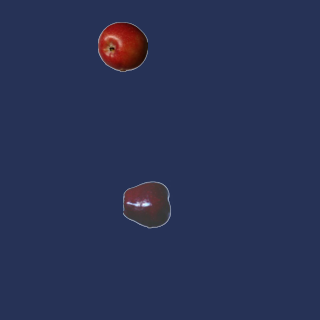Apple Braeburn: (97, 21, 147, 71)
Apple Red Delicious: (122, 179, 172, 229)
